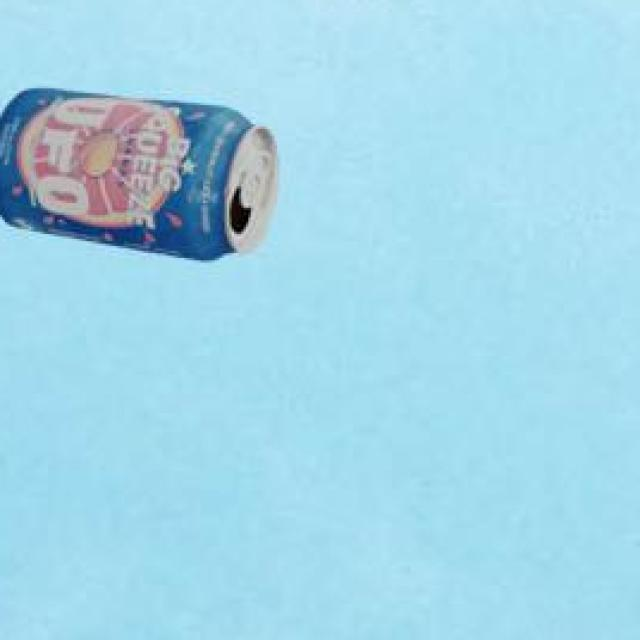logam: (0, 92, 281, 264)
